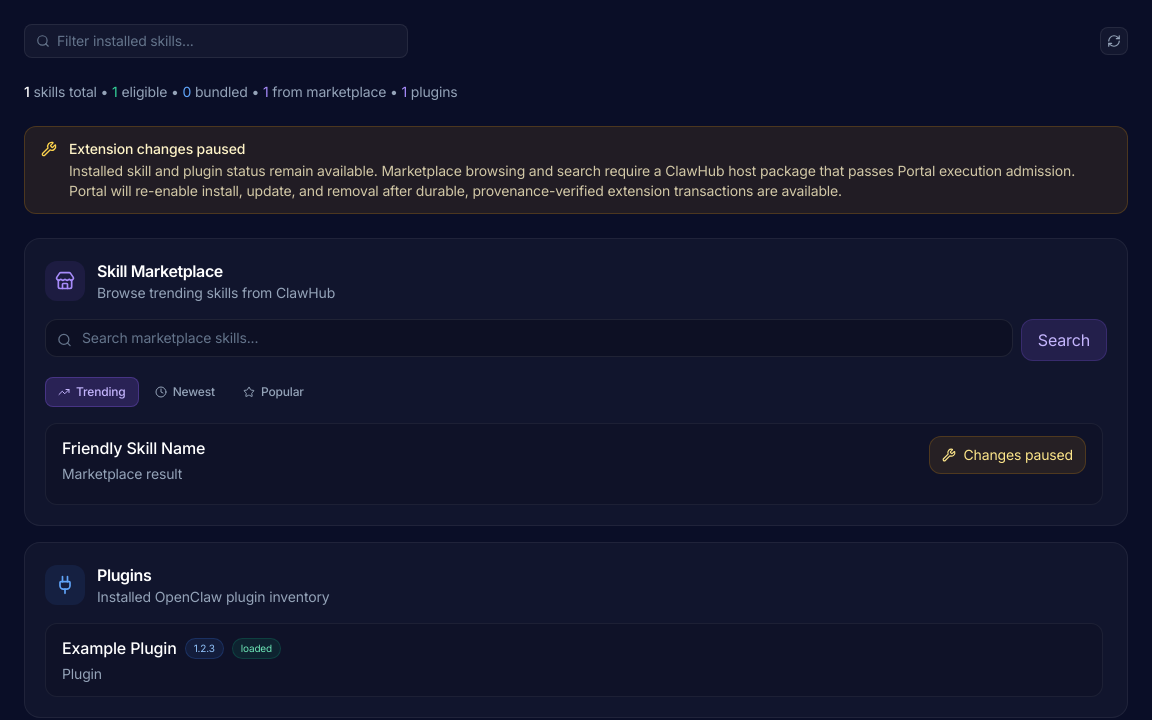
Test: Skills and plugins read-only maintenance boundary › keeps ClawHub browse and search read-only without submitting a marketplace install
Expected: the text "Friendly Skill Name" is shown, [62,436,205,460]
Expected: the element named "canonical-skill cannot be installed while extension changes are paused" reads "Changes paused", [964,446,1073,463]
Type "search" into the field labelled "Search marketplace skills".
click(529, 338); type("search")  # box [45,319,1013,357]
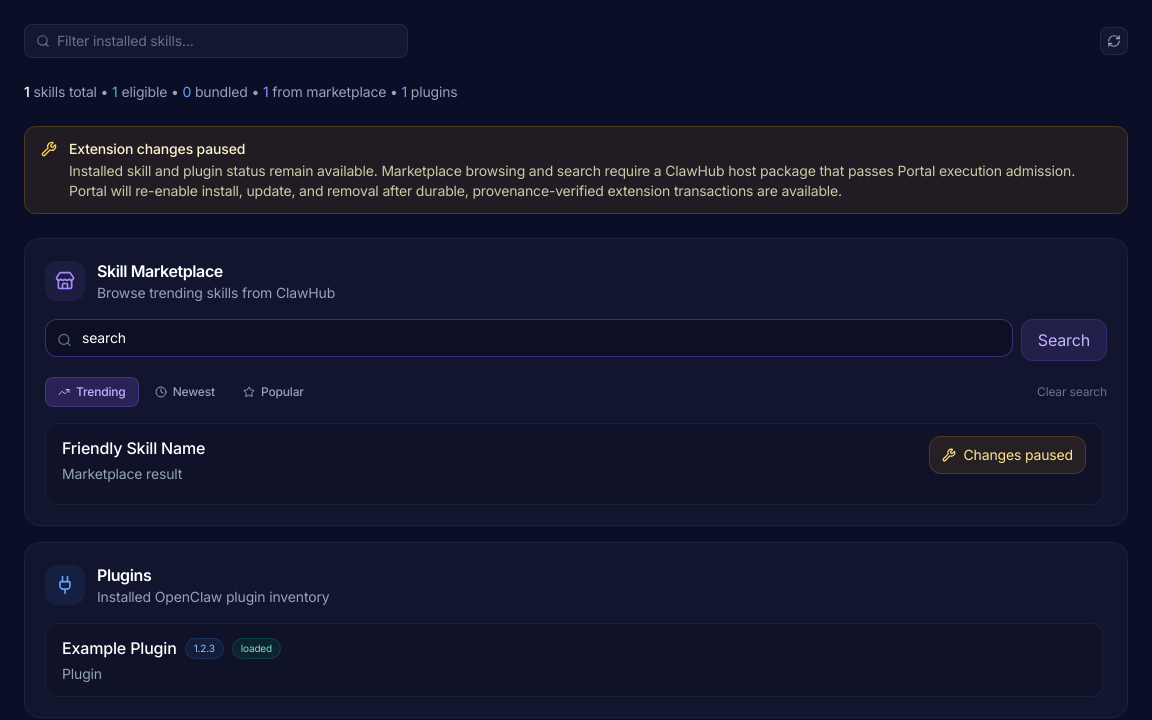
Click the button with aria-label "Search marketplace skills".
click(1064, 340)  # box [1021,319,1107,361]
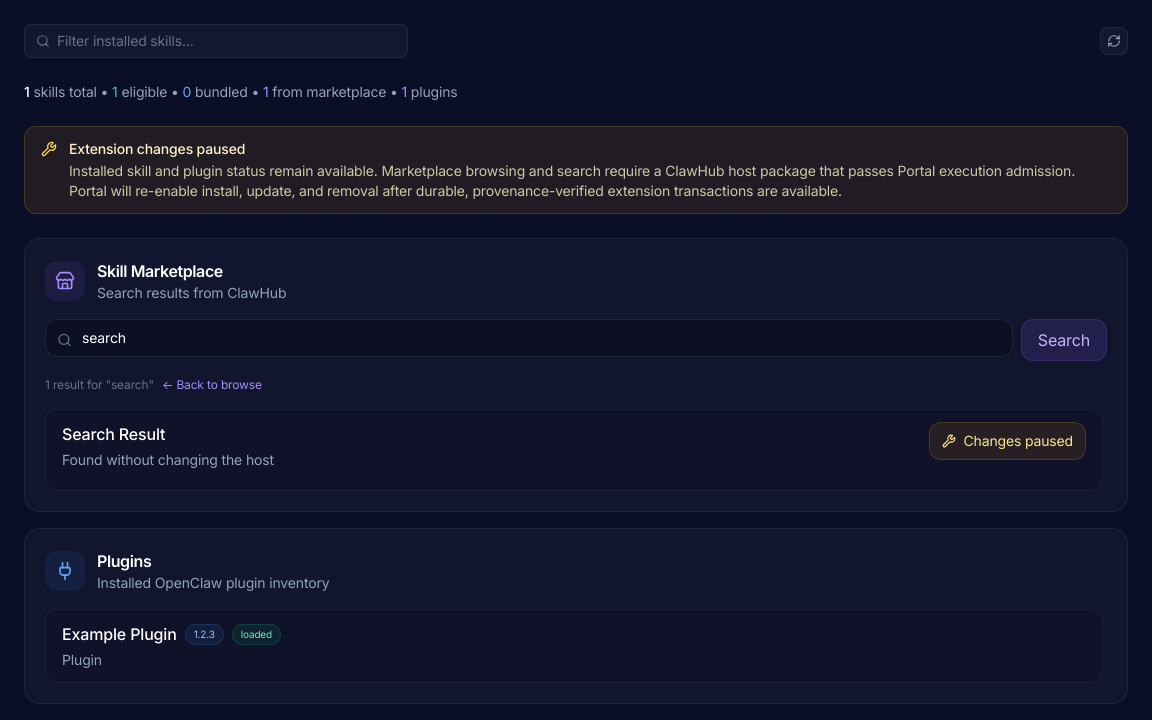
Expected: the element named "search-result cannot be installed while extension changes are paused" reads "Changes paused", [964,432,1073,449]
Now the text "Search Result" is shown, box [62,422,165,446]
